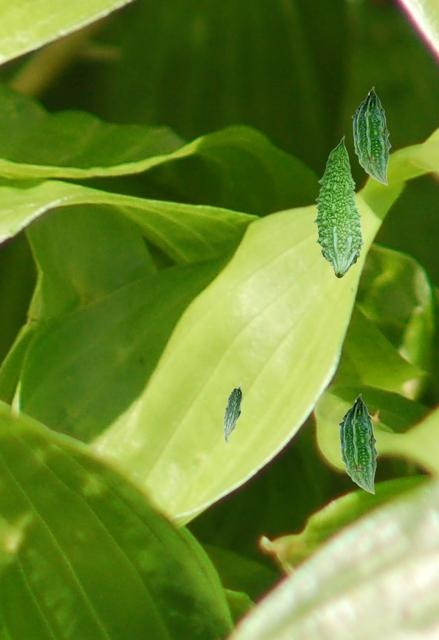ampalaya: (312, 135, 365, 278), (337, 393, 378, 494), (351, 86, 391, 185), (222, 382, 243, 443)
